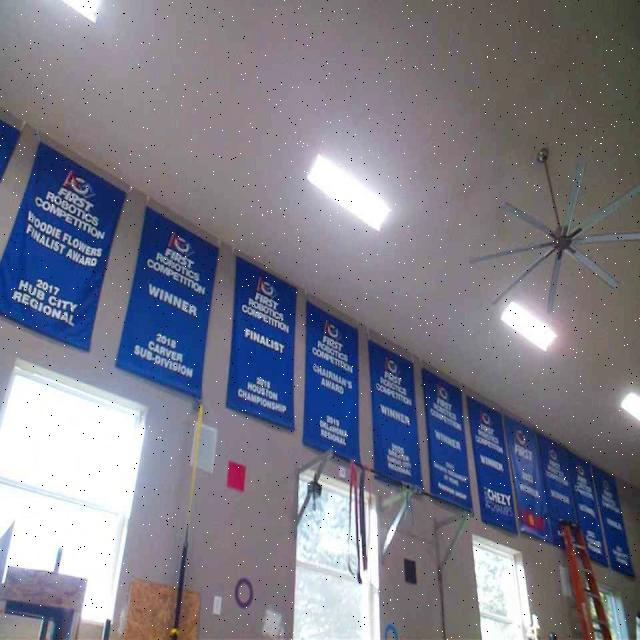ring_purple: (233, 577, 254, 607)
square_black: (402, 557, 417, 583)
square_red: (224, 461, 247, 492)
